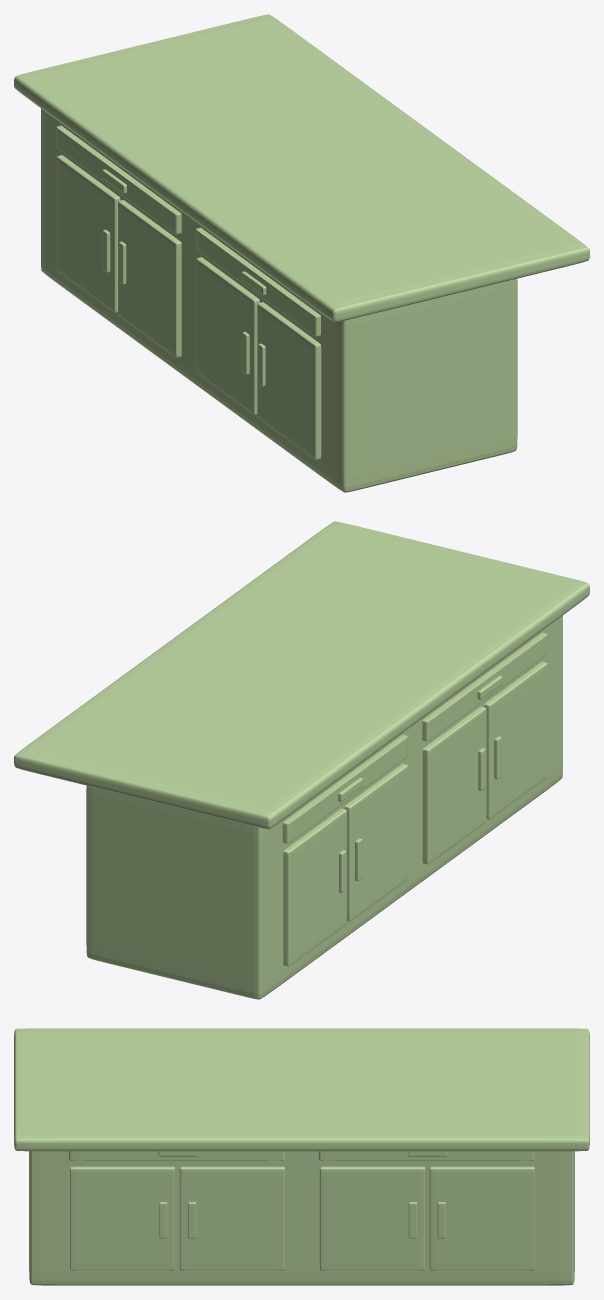
The model's file is Counter.glb.
3 renders of one model, top to bottom at view 1: azimuth 30°, elevation 25°; view 2: azimuth 150°, elevation 25°; view 3: azimuth 270°, elevation 25°, orthographic. The views are drawn at different scales.
Parts seen in each view (by area): view 1: pCube2, pCube1, pCube6, pCube4, pCube8, pCube3, pCube5, pCube7; view 2: pCube2, pCube1, pCube8, pCube3, pCube4, pCube6, pCube7, pCube5; view 3: pCube2, pCube1, pCube25, pCube17, pCube19, pCube18, pCube21, pCube20.
Boxes of the visible parts, x1,y1,x2,y2 form: pCube2: [14, 14, 589, 322]; pCube1: [41, 108, 517, 492]; pCube6: [257, 302, 321, 459]; pCube4: [118, 200, 181, 357]; pCube8: [196, 257, 259, 414]; pCube3: [56, 155, 120, 312]; pCube5: [56, 125, 181, 234]; pCube7: [196, 227, 320, 336]; pCube2: [14, 521, 589, 829]; pCube1: [86, 615, 562, 999]; pCube8: [422, 706, 486, 864]; pCube3: [283, 808, 346, 966]; pCube4: [344, 764, 408, 921]; pCube6: [484, 661, 547, 819]; pCube7: [422, 632, 547, 741]; pCube5: [282, 734, 407, 843]; pCube2: [14, 1028, 589, 1151]; pCube1: [29, 1151, 574, 1285]; pCube25: [319, 1166, 425, 1271]; pCube17: [429, 1166, 534, 1271]; pCube19: [70, 1166, 175, 1271]; pCube18: [179, 1166, 284, 1271]; pCube21: [318, 1151, 534, 1160]; pCube20: [69, 1151, 284, 1160].
Bounding box in the file's own units: 3.77 × 2.74 × 8.14.
